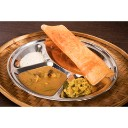dosa: (40, 23, 114, 84)
